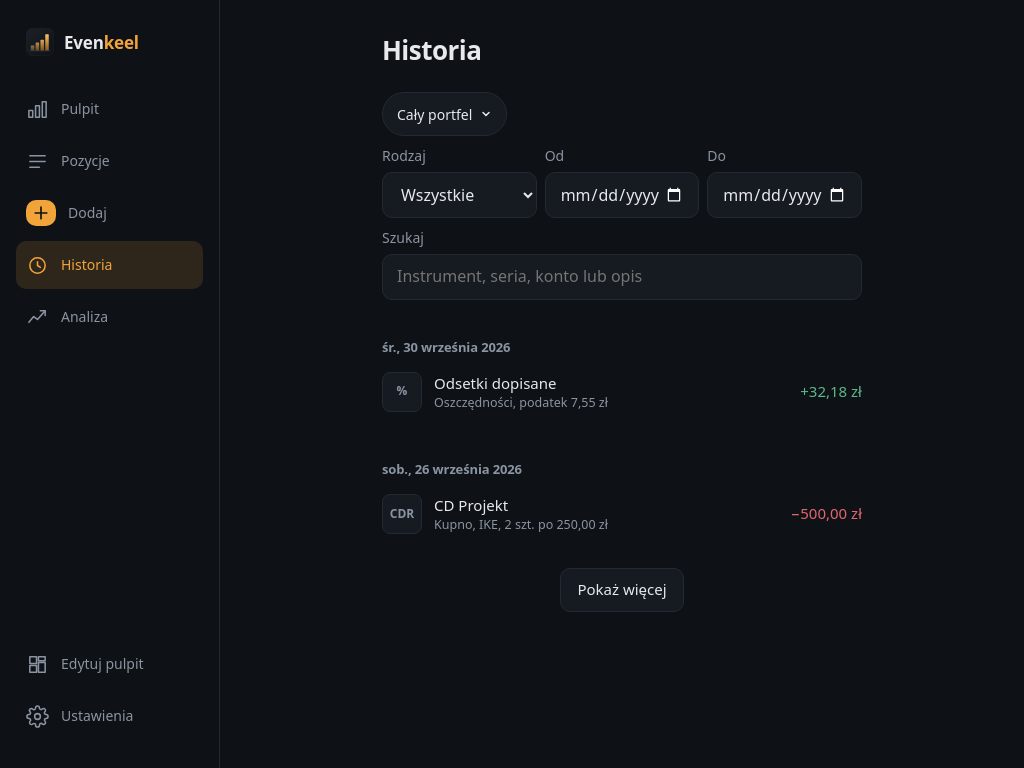
Test: history › lists entries by day and loads more
Expected: the text "Odsetki dopisane" is shown, [434,372,556,392]
Expected: the text "CD Projekt" is shown, [434,495,508,515]
Click the button "Pokaż więcej" at {"x": 622, "y": 590}, box [560,568,684,612]
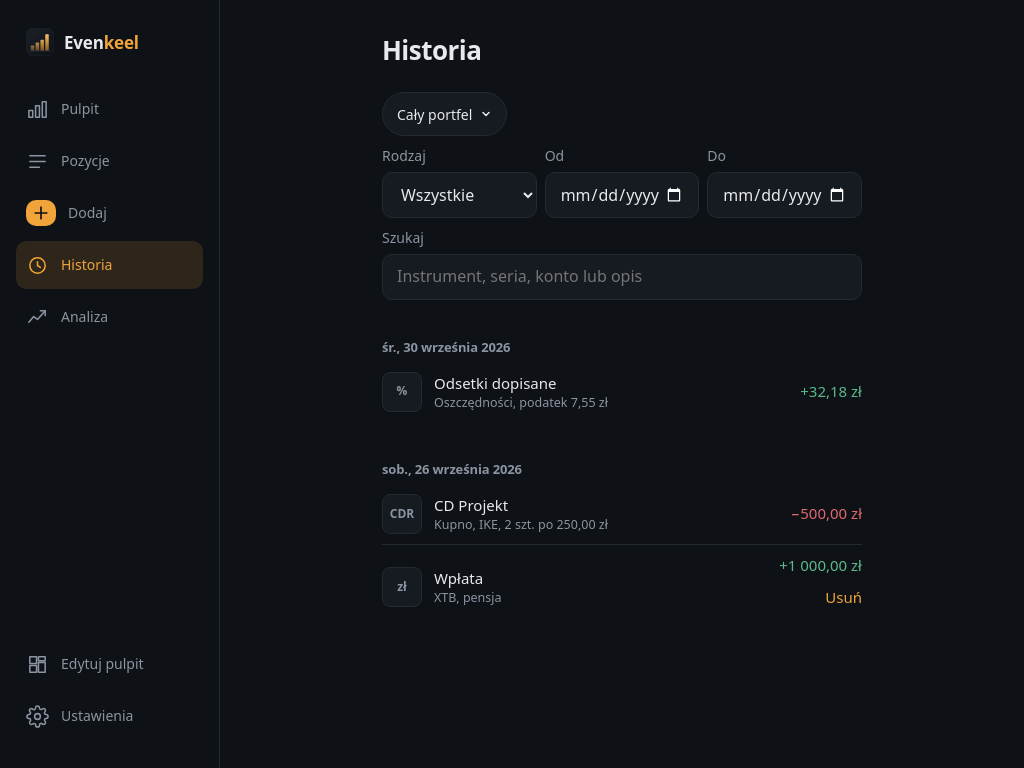
Expected: the text "pensja" is shown, [434,589,502,606]
Expected: the button "Pokaż więcej" is gone
